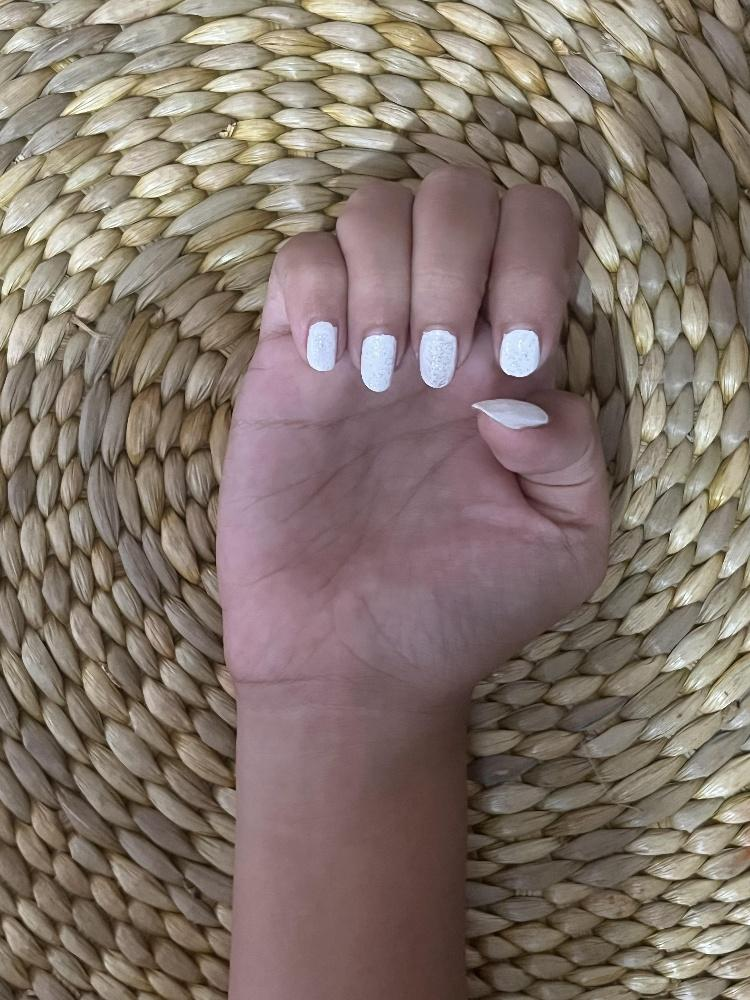e: (214, 161, 614, 692)
